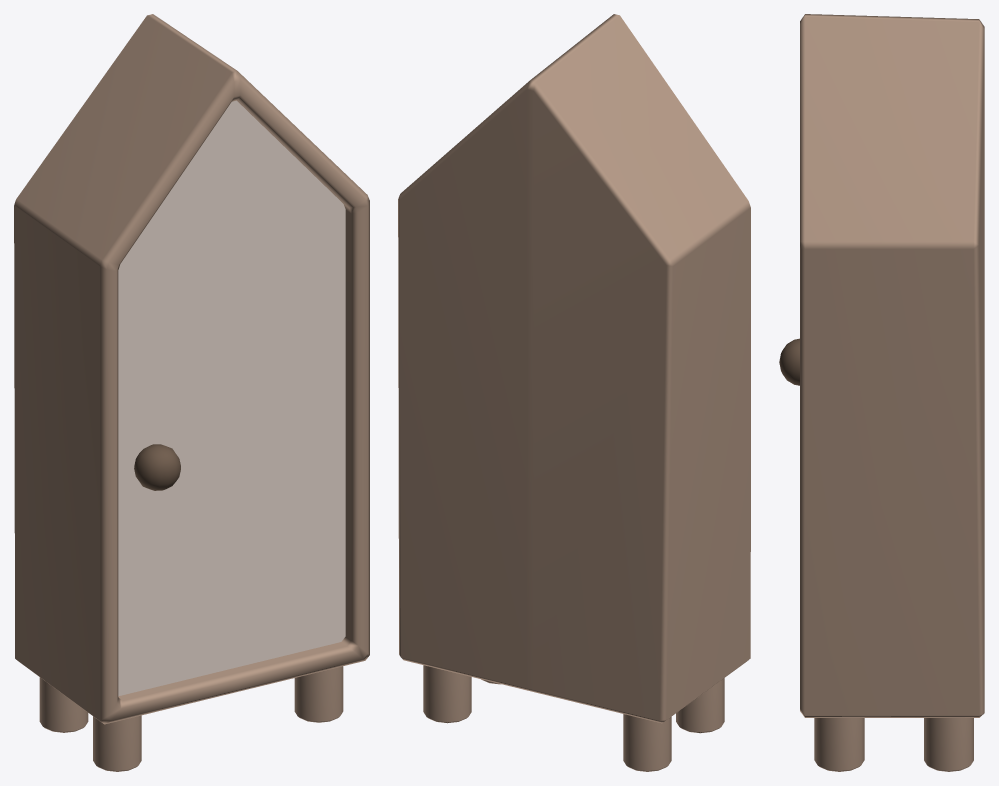
File: Cabinet_1.glb
The picture shows the model from 3 angles, left to right: view 1: azimuth 30°, elevation 25°; view 2: azimuth 150°, elevation 25°; view 3: azimuth 270°, elevation 25°; orthographic projection. The views are drawn at different scales.
Visible parts, largest first — view 1: Cabinet_9; view 2: Cabinet_9; view 3: Cabinet_9.
Part boxes in pixels (<box>): Cabinet_9: <box>14,14,369,771</box>; Cabinet_9: <box>398,14,750,771</box>; Cabinet_9: <box>779,14,984,771</box>.
Bounding box in the file's own units: 1.05 × 2.46 × 0.6582.
Materials: 1 (1 with a texture image).
